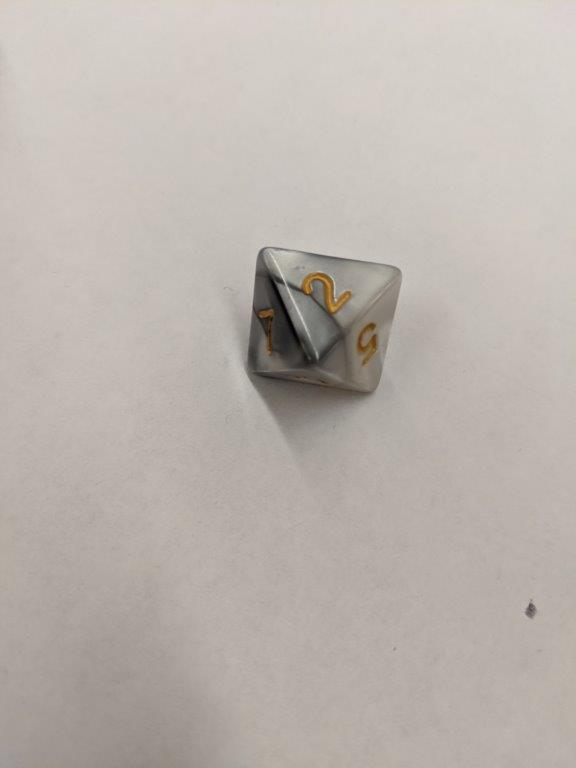d8-2: (245, 246, 403, 397)
